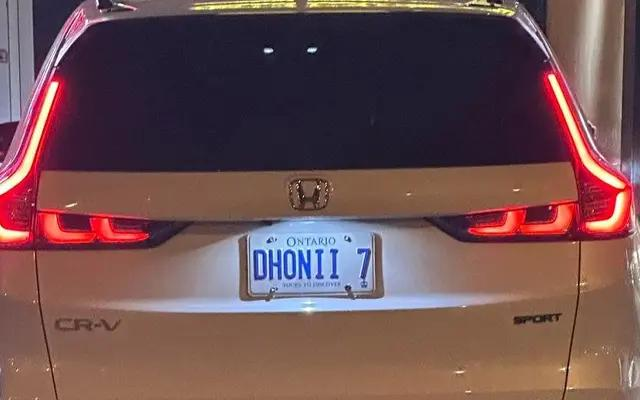licence: (243, 220, 380, 297)
